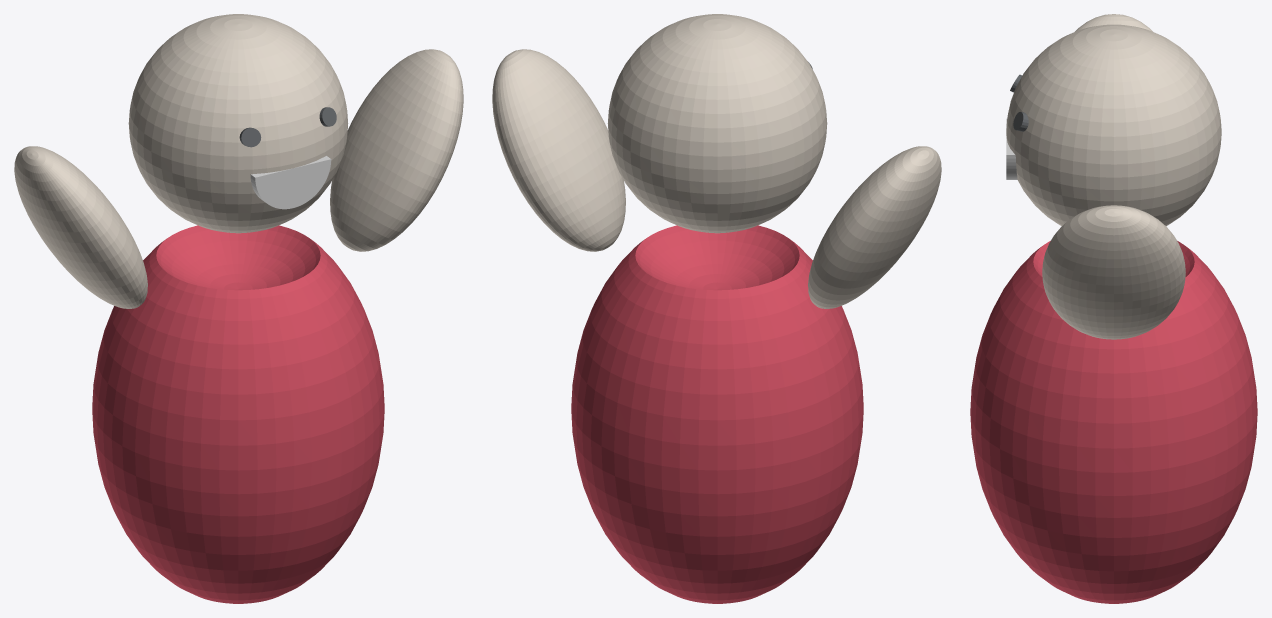
Rendered from red.glb.
3 views of the same model, side by side, from view 1: azimuth 30°, elevation 25°; view 2: azimuth 150°, elevation 25°; view 3: azimuth 270°, elevation 25° (orthographic).
Visible parts, largest first — view 1: Mesh_Mesh_head_geo.001_lambert2SG.001; view 2: Mesh_Mesh_head_geo.001_lambert2SG.001; view 3: Mesh_Mesh_head_geo.001_lambert2SG.001.
Boxes of the visible parts, x1,y1,x2,y2 form: Mesh_Mesh_head_geo.001_lambert2SG.001: (14, 14, 463, 603); Mesh_Mesh_head_geo.001_lambert2SG.001: (492, 14, 941, 603); Mesh_Mesh_head_geo.001_lambert2SG.001: (970, 14, 1257, 603).
Size of the model in its own units: 33.75 by 43 by 20.
